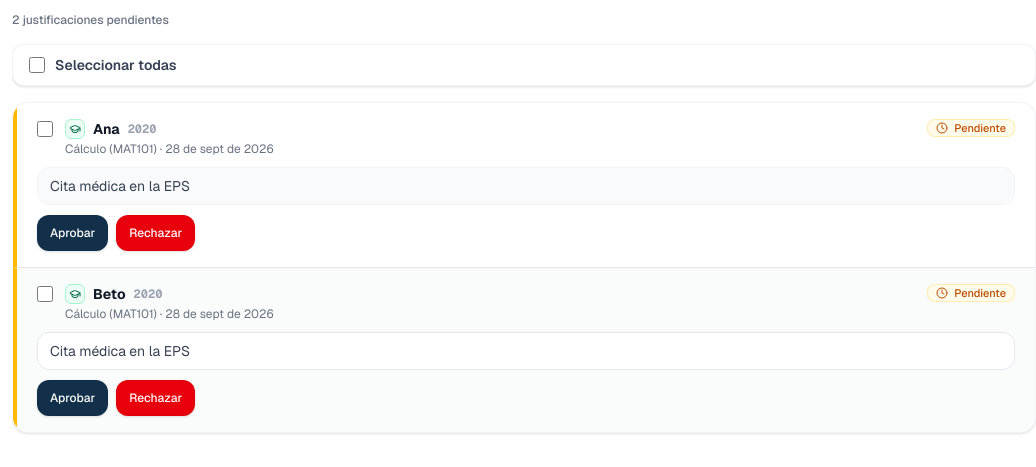
Test: JustificationsList: bulk approve › selects individual rows and shows the counter and button
Click the checkbox named "Seleccionar justificación de Ana".
click(45, 129)  # box [37,121,53,137]
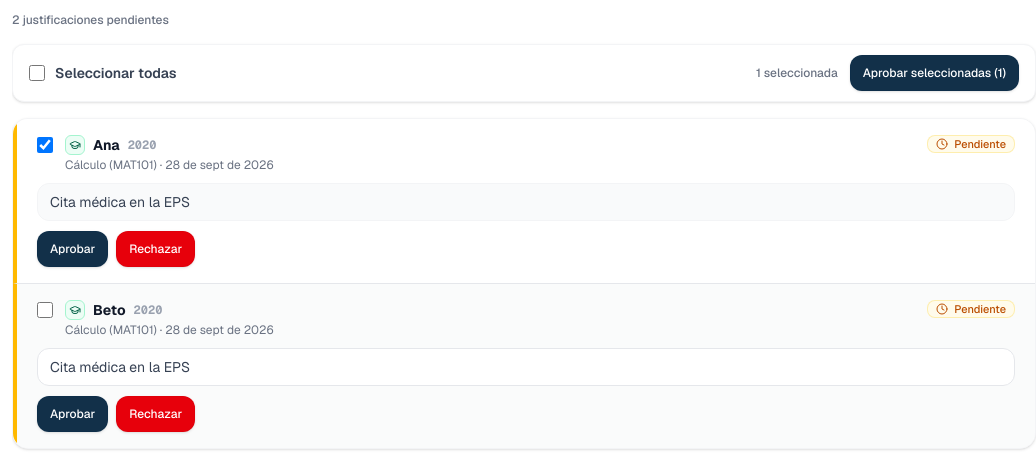
Expected: the text "1 seleccionada" is shown, [756,65,838,81]
Expected: the button "Aprobar seleccionadas (1)" is shown, [850,55,1019,91]
